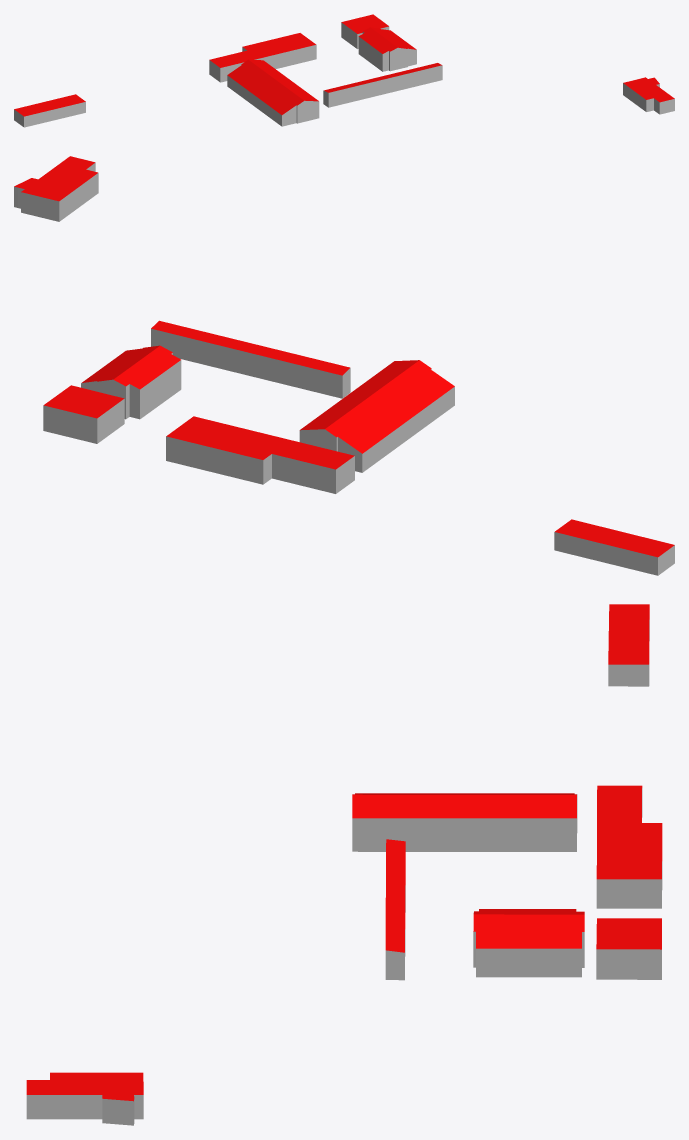
3 renders of one model, top to bottom at view 1: azimuth 30°, elevation 25°; view 2: azimuth 150°, elevation 25°; view 3: azimuth 270°, elevation 25°, orthographic. The views are drawn at different scales.
Size of the model in its own units: 147 by 5.98 by 79.1.
